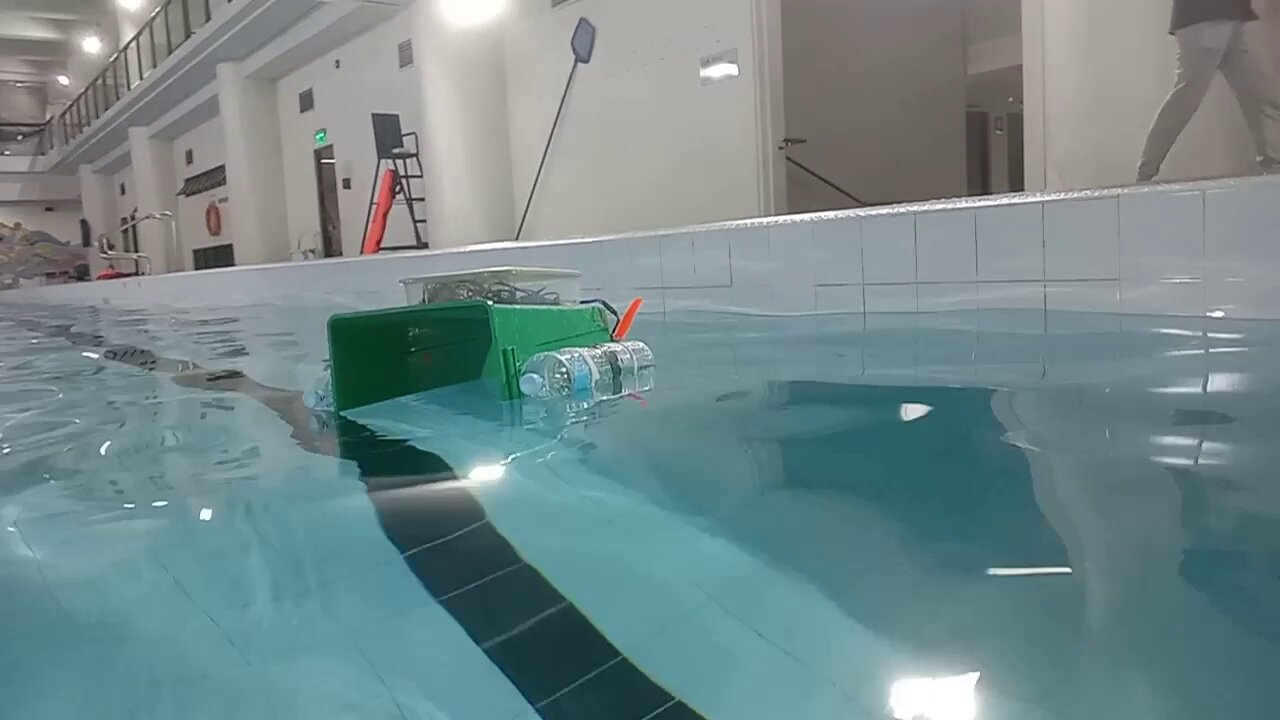drone: (301, 262, 657, 418)
